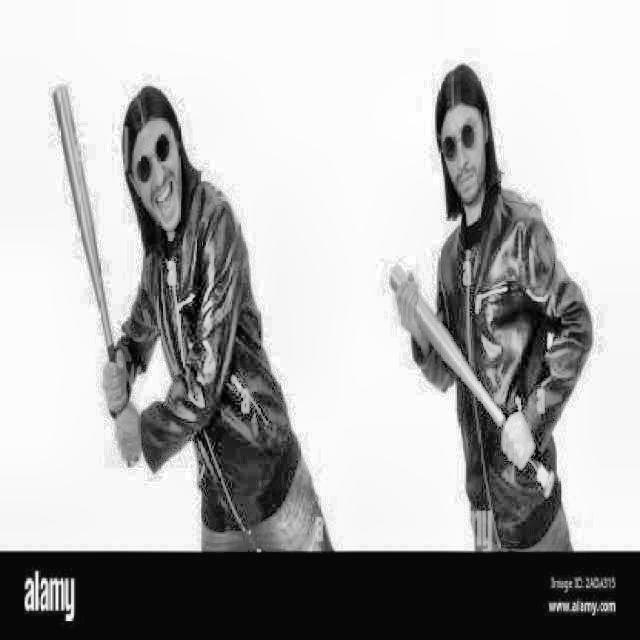tongkat pemukul: (366, 259, 584, 507), (36, 83, 147, 472)
